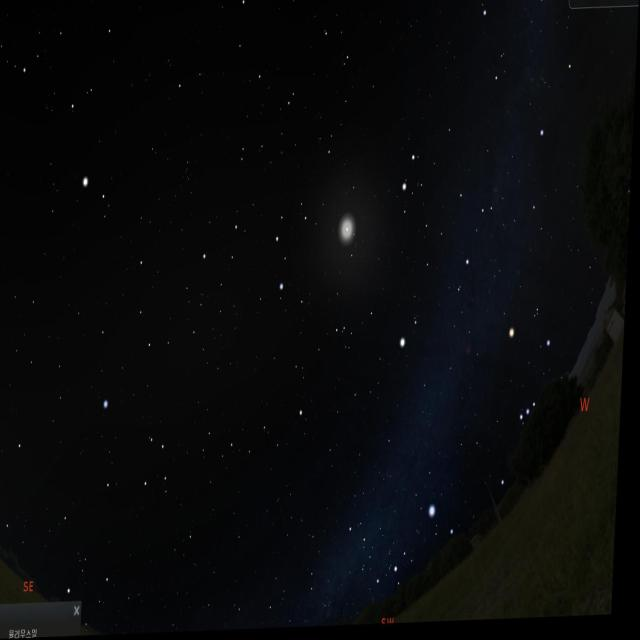bootes: (45, 0, 119, 214)
canis_major: (398, 497, 471, 594)
canis_minor: (399, 323, 432, 371)
gemini: (393, 146, 501, 289)
leo: (185, 182, 315, 315)
moon: (333, 202, 366, 264)
orion: (498, 331, 574, 503)
